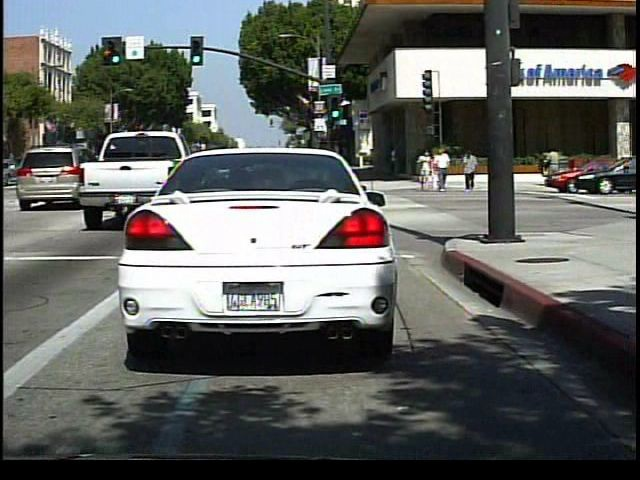person: (461, 145, 482, 193), (434, 143, 454, 192), (416, 145, 436, 194), (542, 144, 563, 187)
